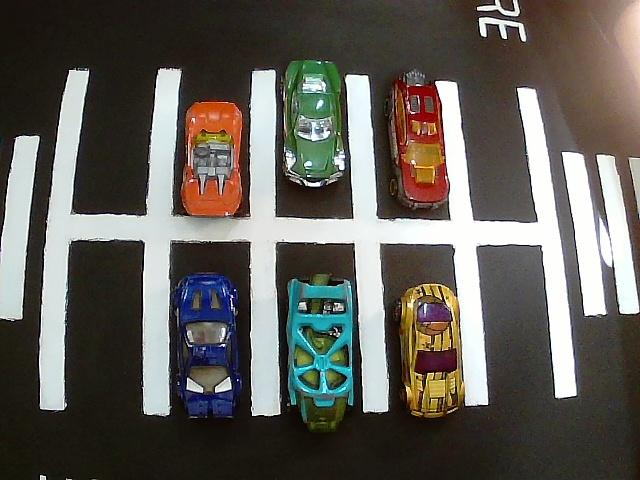Carro: (174, 271, 245, 424), (288, 277, 357, 434), (391, 71, 451, 219), (399, 284, 463, 420), (284, 61, 350, 190), (178, 101, 248, 218)
